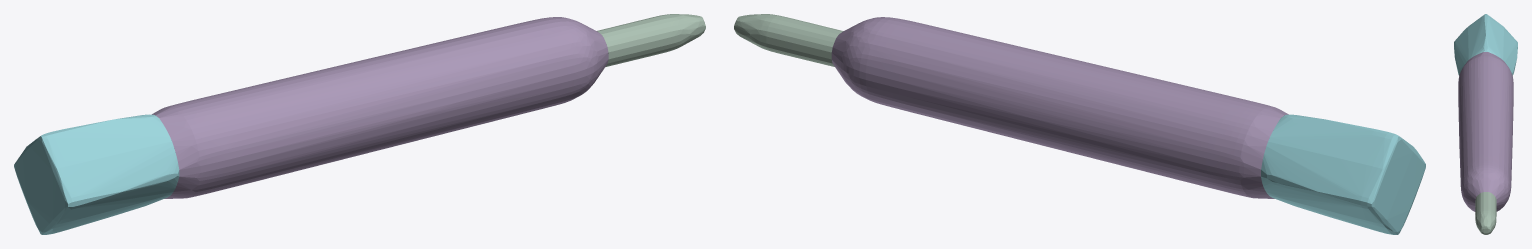
The model's file is staples_marker-collision.glb.
3 renders of one model, left to right at view 1: azimuth 30°, elevation 25°; view 2: azimuth 150°, elevation 25°; view 3: azimuth 270°, elevation 25°, orthographic. The views are drawn at different scales.
Visible parts, largest first — view 1: staples_marker_collision1_0, staples_marker_collision2_0, staples_marker_collision0_0; view 2: staples_marker_collision1_0, staples_marker_collision2_0, staples_marker_collision0_0; view 3: staples_marker_collision1_0, staples_marker_collision2_0, staples_marker_collision0_0.
Part boxes in pixels (x1,y1,x2,y2): staples_marker_collision1_0: (152,17,608,198); staples_marker_collision2_0: (14,114,179,234); staples_marker_collision0_0: (597,14,705,66); staples_marker_collision1_0: (831,17,1288,198); staples_marker_collision2_0: (1261,114,1425,234); staples_marker_collision0_0: (734,14,843,66); staples_marker_collision1_0: (1458,52,1513,211); staples_marker_collision2_0: (1454,14,1517,75); staples_marker_collision0_0: (1475,192,1496,234).
Size of the model in its own units: 0.1507 by 0.0217 by 0.0216.
